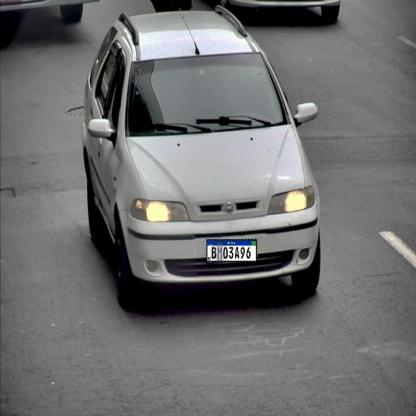PlacaM: (206, 239, 257, 262)
